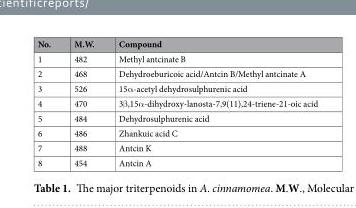table: (36, 37, 317, 168)
table column: (105, 37, 317, 168), (61, 37, 105, 168), (36, 37, 61, 168)
table column header: (36, 37, 317, 50)
table row: (36, 50, 317, 65), (36, 65, 317, 80), (36, 80, 317, 95), (36, 95, 317, 110), (36, 110, 317, 125), (36, 125, 317, 140), (36, 140, 317, 154), (36, 154, 317, 168), (36, 37, 317, 50)
